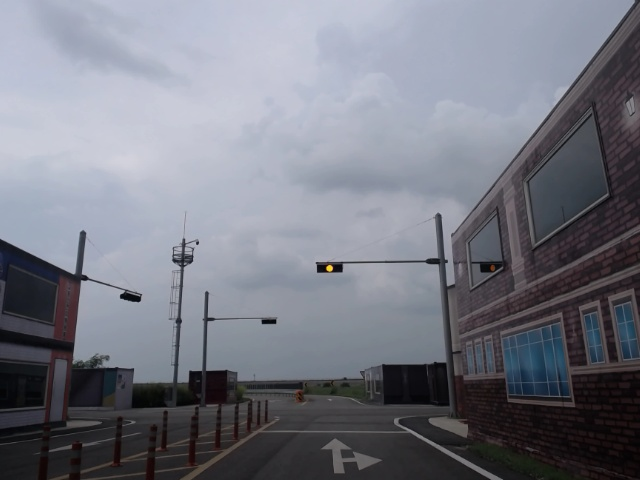orange_3: (316, 262, 343, 274)
